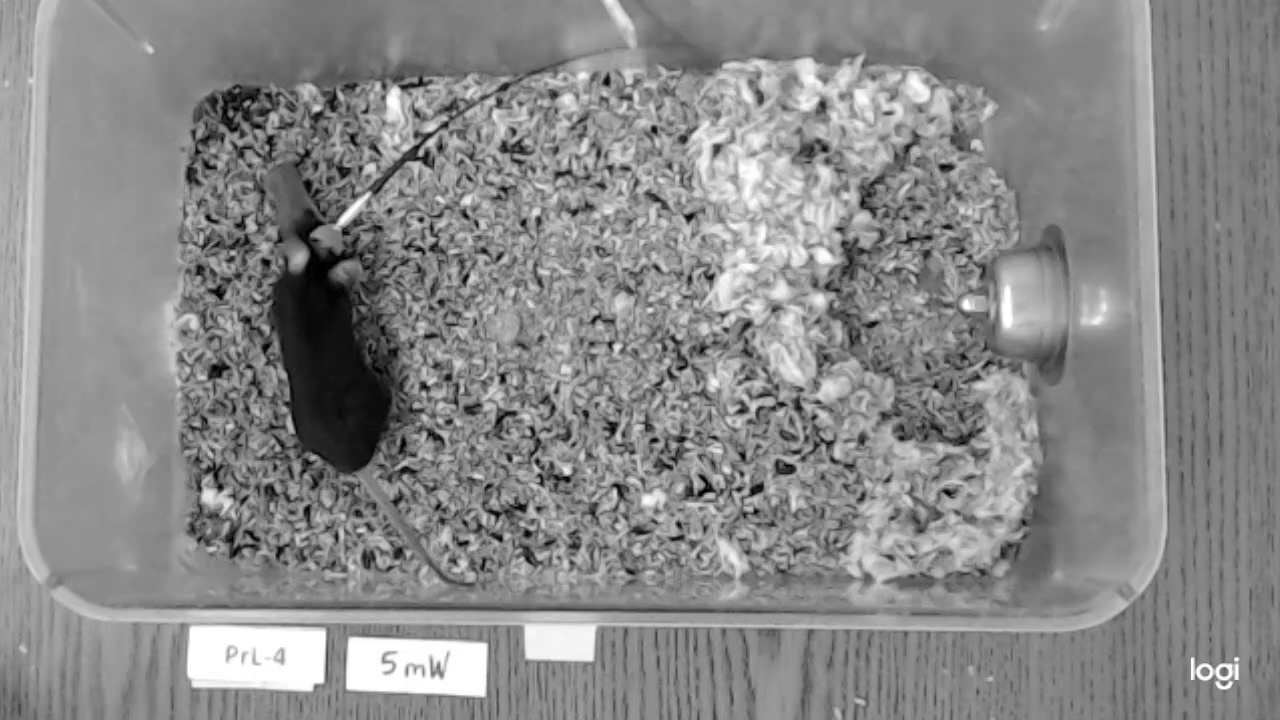child-mice: (263, 161, 317, 226)
